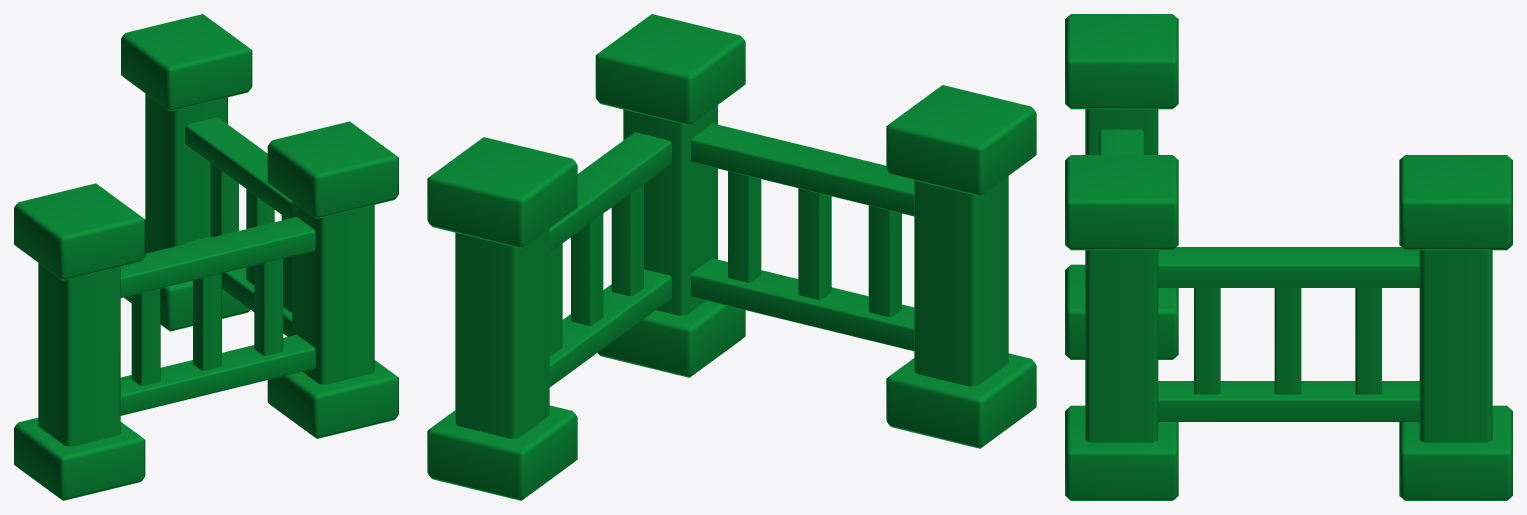
File: City_4_Fence_1.glb
3 renders of one model, left to right at view 1: azimuth 30°, elevation 25°; view 2: azimuth 150°, elevation 25°; view 3: azimuth 270°, elevation 25°, orthographic. The views are drawn at different scales.
Visible parts, largest first — view 1: City_4_Fence_1; view 2: City_4_Fence_1; view 3: City_4_Fence_1.
Part boxes in pixels (left/top/right/bottom): City_4_Fence_1: left=14, top=14, right=398, bottom=500; City_4_Fence_1: left=427, top=14, right=1036, bottom=500; City_4_Fence_1: left=1065, top=14, right=1512, bottom=500.
Size of the model in its own units: 1.7 by 1.27 by 1.7.
Materials: 1 (1 with a texture image).
